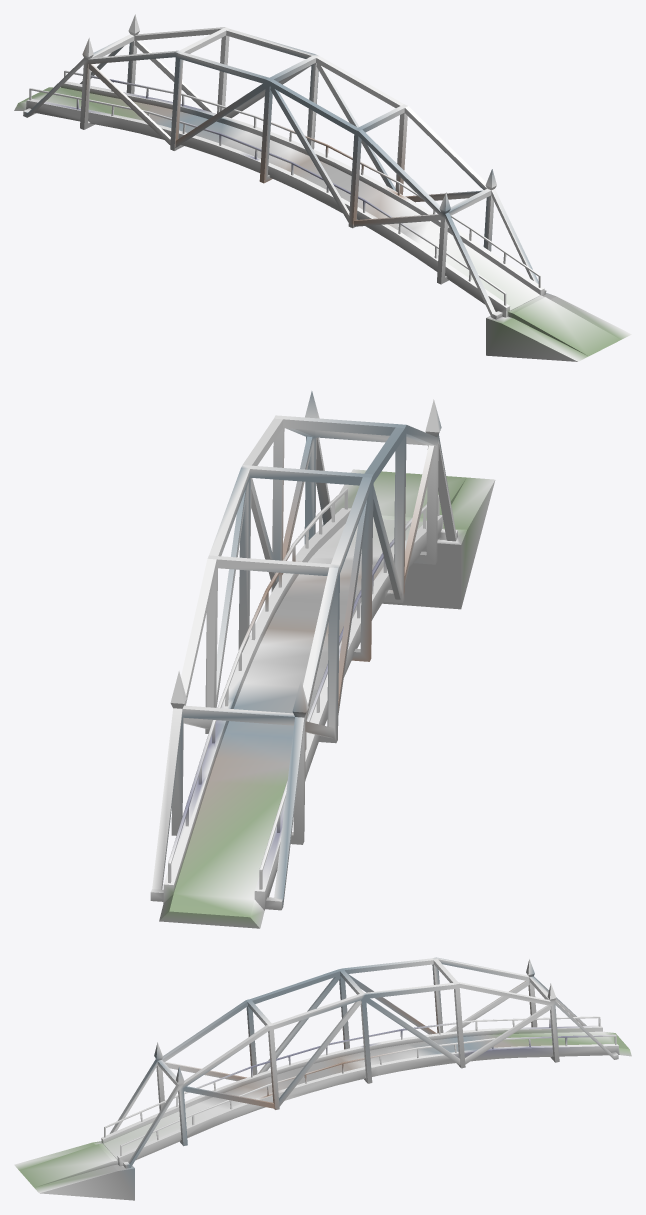
File: bridge2.glb
3 renders of one model, top to bottom at view 1: azimuth 30°, elevation 25°; view 2: azimuth 150°, elevation 25°; view 3: azimuth 270°, elevation 25°, orthographic. The views are drawn at different scales.
Visible parts, largest first — view 1: BRIDGE2; view 2: BRIDGE2; view 3: BRIDGE2.
Part boxes in pixels (x1=…): BRIDGE2: x1=14, y1=14, x2=631, y2=361; BRIDGE2: x1=150, y1=391, x2=495, y2=928; BRIDGE2: x1=14, y1=957, x2=631, y2=1200.
Bounding box in the file's own units: 16.92 × 11.23 × 37.32.
